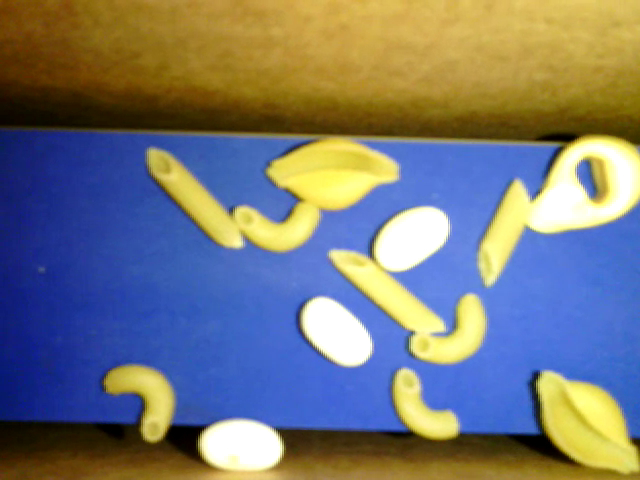elbow: (104, 362, 176, 442), (409, 293, 488, 364), (234, 200, 321, 254), (392, 367, 458, 438)
penne: (327, 247, 448, 333), (146, 147, 245, 248), (477, 177, 532, 288)
shell: (535, 369, 639, 473), (266, 136, 399, 212)
tortellini: (524, 132, 639, 233)
